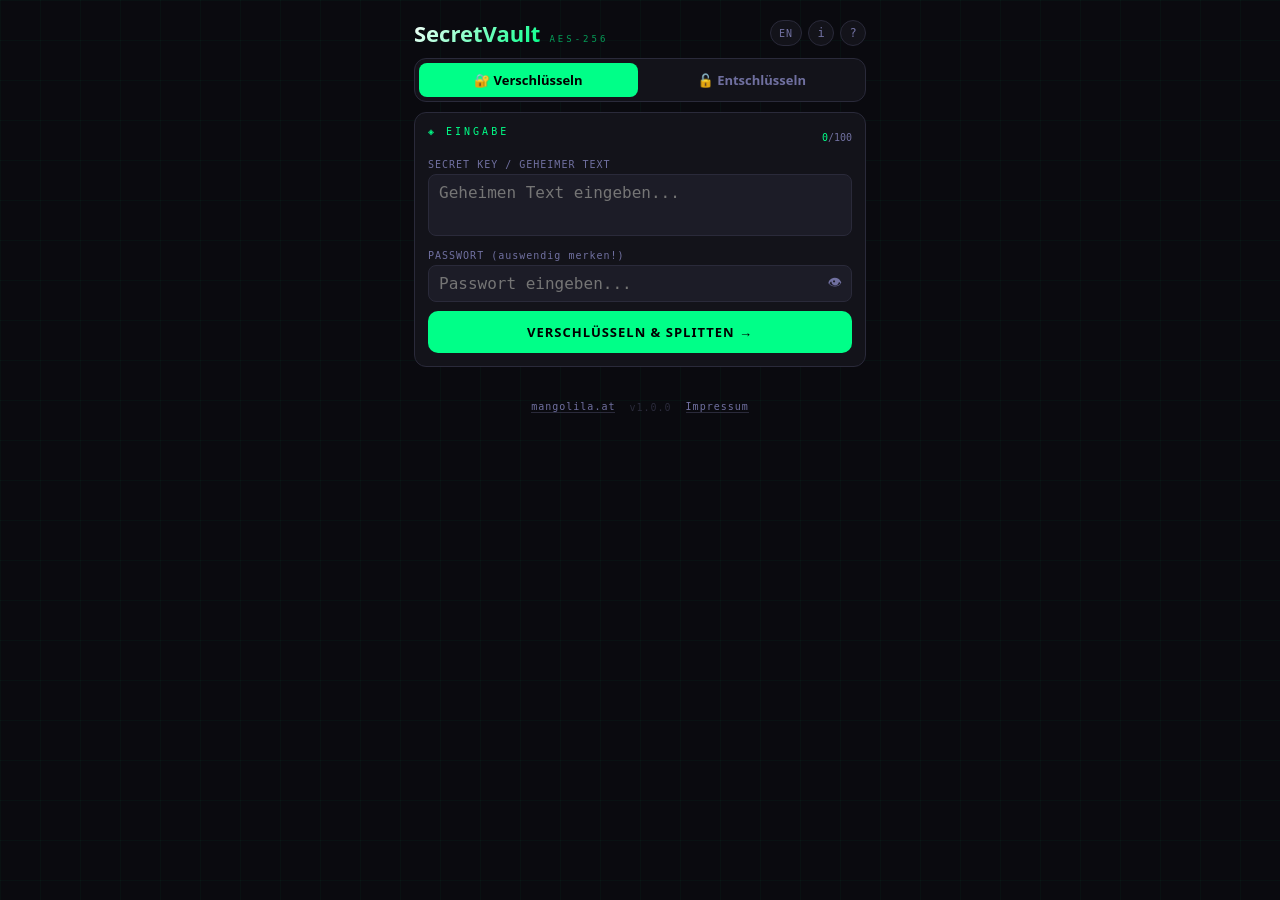
Scenario: Navigation › öffnet und schließt Info-Panel
The width and height of the screenshot is (1280, 900).
Check: the button "🔐 Verschlüsseln" is shown, box [419, 63, 638, 97]
Click the button "i" at point(821, 33), box [808, 20, 834, 46]
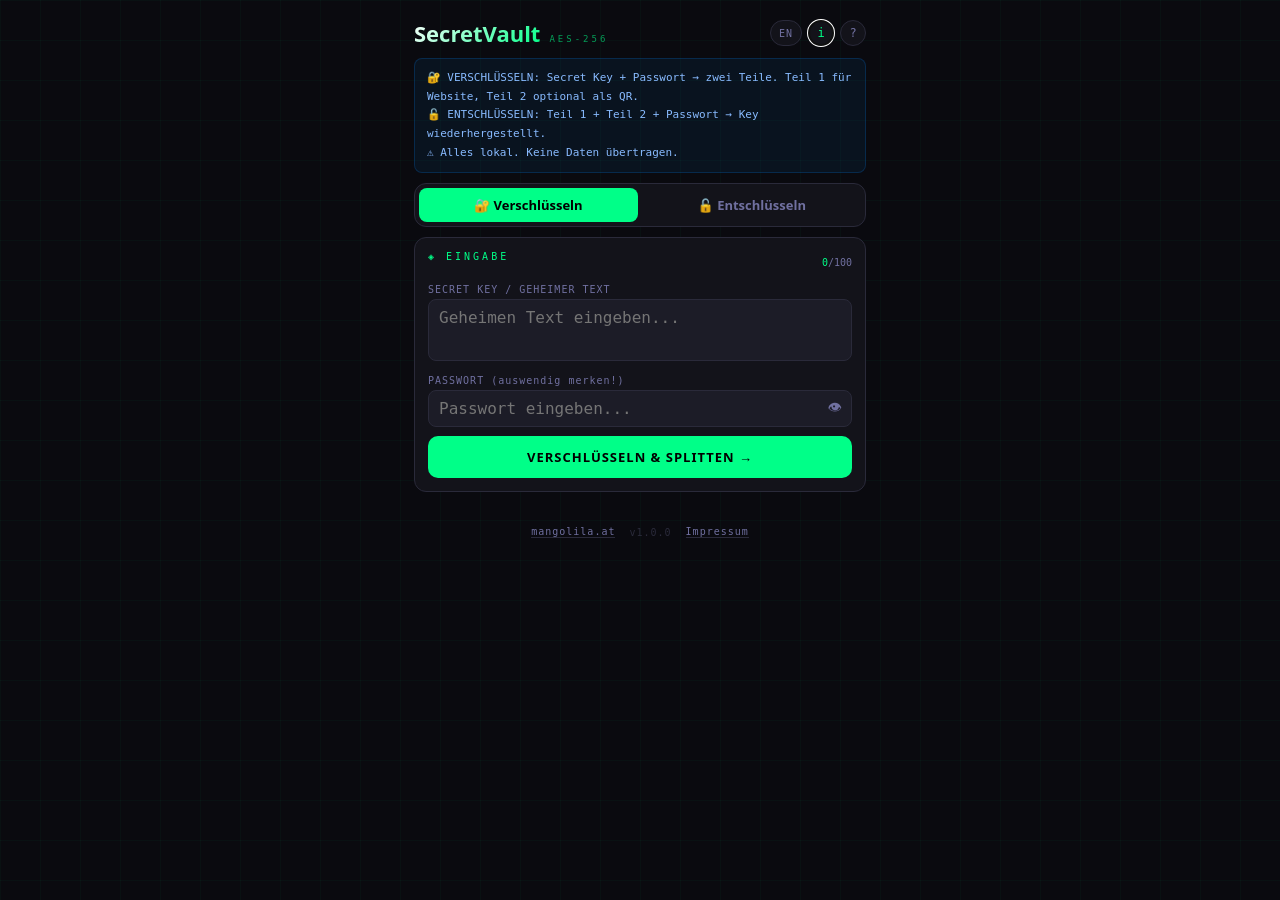
Check: the text "Alles lokal" is shown, box [427, 146, 679, 159]
Click the button "i" at point(821, 33), box [808, 20, 834, 46]
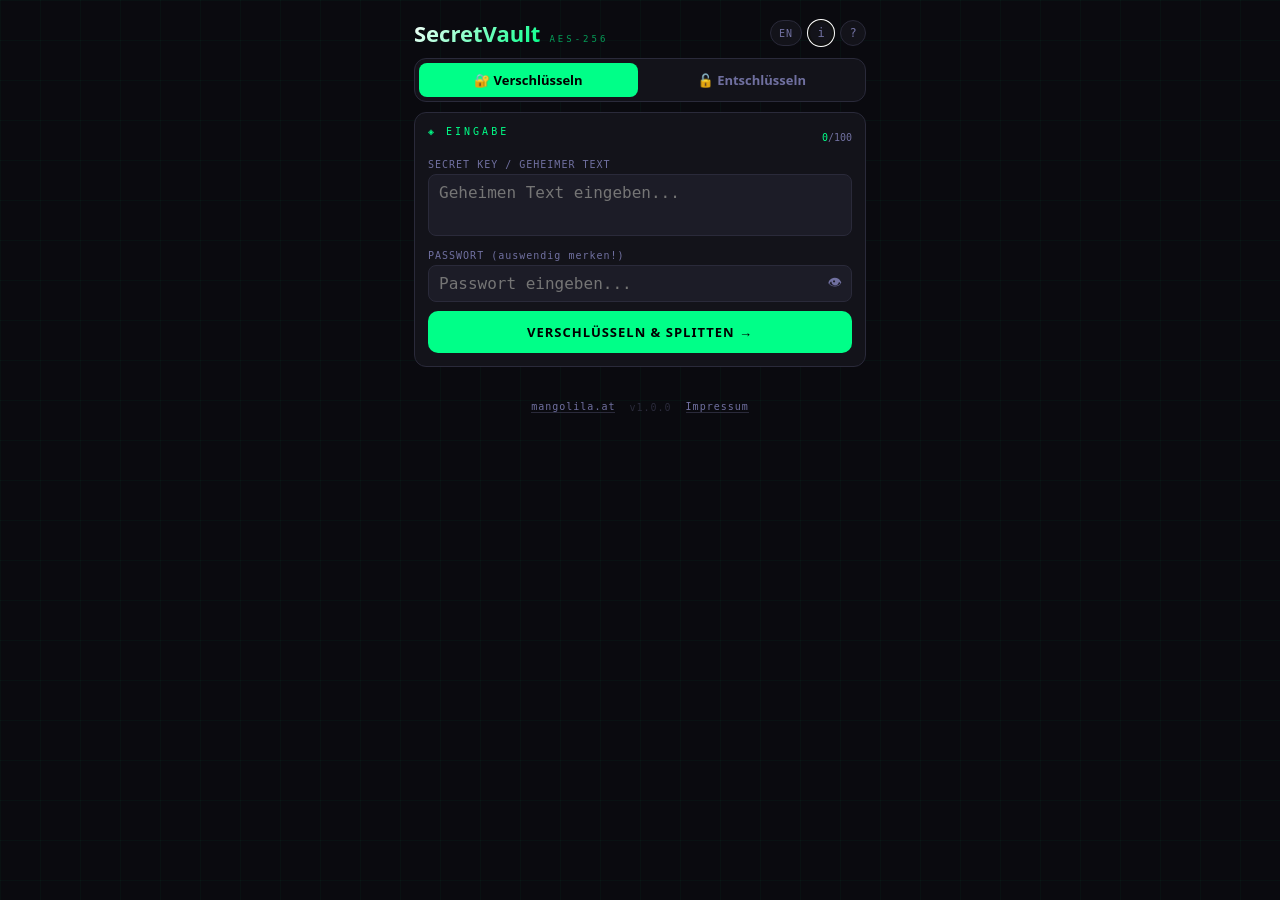
Check: the text "Alles lokal" is gone
